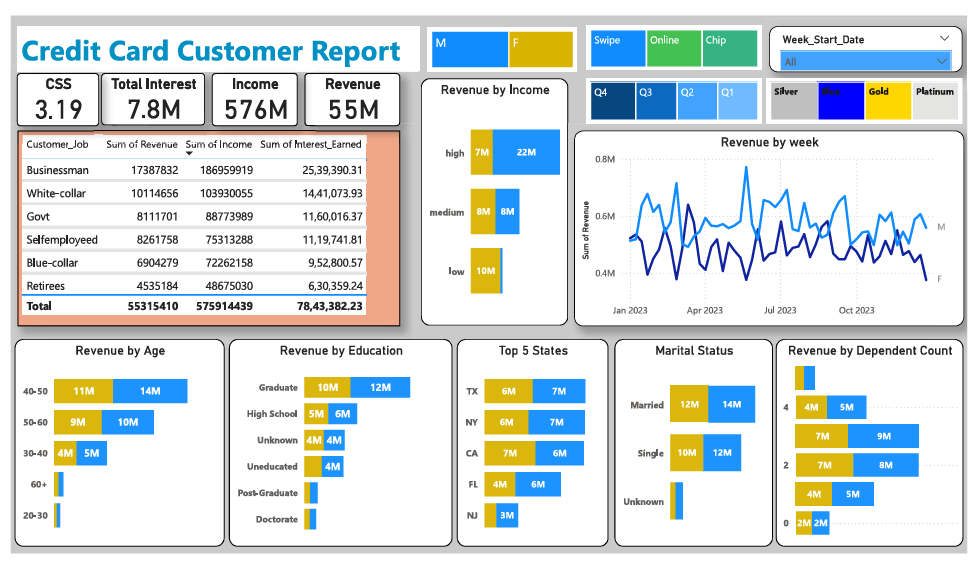

What the dashboard file says about the page in this screenshot:
{"tool":"powerbi","page":{"name":"Customer Trans","canvas":[1280,720],"ordinal":1},"visuals":[{"type":"textbox","box":[8.6,14.7,538,59.9],"z":0},{"type":"barChart","title":"Revenue by Income","fields":{"Y":["Sum(credit_card.Revenue)"],"Category":["customer.IncomeGroup"],"Series":["customer.Gender"]},"box":[548.9,84.5,196.6,330.6],"z":1000},{"type":"tableEx","fields":{"Values":["customer.Customer_Job","Sum(credit_card.Revenue)","Sum(customer.Income)","Sum(credit_card.Interest_Earned)"]},"box":[8.6,154.1,512.4,261.7],"z":2000},{"type":"card","title":"Revenue","fields":{"Values":["Sum(credit_card.Revenue)"]},"box":[392.5,77,128.4,70.9],"z":3000},{"type":"card","title":"Total Interest","fields":{"Values":["Sum(credit_card.Interest_Earned)"]},"box":[121.1,77,139.4,69.7],"z":4000},{"type":"card","title":"Income","fields":{"Values":["Sum(customer.Income)"]},"box":[269,77,114.9,70.9],"z":5000},{"type":"card","title":"CSS","fields":{"Values":["Avg(customer.Cust_Satisfaction_Score)"]},"box":[8,77,110.1,70.9],"z":6000},{"type":"slicer","fields":{"Values":["credit_card.Week_Start_Date"]},"box":[1014.6,14.5,259.4,61.5],"z":7000},{"type":"treemap","fields":{"Group":["credit_card.Qtr"],"Values":["Avg(credit_card.Client_Num)"]},"box":[770.9,84.5,234,60.3],"z":8000},{"type":"treemap","fields":{"Group":["credit_card.Card_Category"],"Values":["Avg(credit_card.Client_Num)"]},"box":[1012.2,84.5,262,60.3],"z":9000},{"type":"lineChart","title":"Revenue by week","fields":{"Y":["Sum(credit_card.Revenue)"],"Series":["customer.Gender"],"Category":["credit_card.Week_Start_Date.Variation.Date Hierarchy.Year","credit_card.Week_Start_Date.Variation.Date Hierarchy.Month","credit_card.Week_Start_Date.Variation.Date Hierarchy.Day"]},"box":[754,154.4,522.4,261.8],"z":10000},{"type":"treemap","fields":{"Group":["customer.Gender"],"Values":["Sum(credit_card.Revenue)"]},"box":[557.6,15.9,200.5,58.7],"z":11000},{"type":"barChart","title":"Revenue by Age","fields":{"Y":["Sum(credit_card.Revenue)"],"Category":["customer.AgeGroup"],"Series":["customer.Gender"]},"box":[5,433.1,281.1,277.5],"z":12000},{"type":"barChart","title":"Revenue by Dependent Count","fields":{"Y":["Sum(credit_card.Revenue)"],"Category":["customer.Dependent_Count"],"Series":["customer.Gender"]},"box":[1024,433.1,250.9,277.5],"z":13000},{"type":"barChart","title":"Revenue by Education","fields":{"Y":["Sum(credit_card.Revenue)"],"Category":["customer.Education_Level"],"Series":["customer.Gender"]},"box":[292,433.1,299.2,277.5],"z":14000},{"type":"barChart","title":"Top 5 States","fields":{"Y":["Sum(credit_card.Revenue)"],"Category":["customer.state_cd"],"Series":["customer.Gender"]},"box":[597,433.1,202.7,277.5],"z":15000},{"type":"barChart","title":"Marital Status","fields":{"Y":["Sum(credit_card.Revenue)"],"Category":["customer.Marital_Status"],"Series":["customer.Gender"]},"box":[808,433.1,212.3,277.5],"z":16000},{"type":"treemap","fields":{"Group":["credit_card.Use Chip"],"Values":["Avg(credit_card.Client_Num)"]},"box":[770.9,14.5,234,59.1],"z":17000}]}

Visuals, with their boxes in screenshot pixels (x1, y1, x2, y2):
textbox: box(14, 24, 417, 69)
"Revenue by Income" barChart: box(419, 76, 566, 324)
tableEx - customer.Customer_Job x Sum(credit_card.Revenue): box(14, 128, 398, 324)
"Revenue" card: box(302, 70, 398, 123)
"Total Interest" card: box(98, 70, 203, 123)
"Income" card: box(209, 70, 295, 123)
"CSS" card: box(14, 70, 96, 123)
slicer - credit_card.Week_Start_Date: box(767, 24, 962, 70)
treemap - credit_card.Qtr x Avg(credit_card.Client_Num): box(585, 76, 760, 121)
treemap - credit_card.Card_Category x Avg(credit_card.Client_Num): box(766, 76, 962, 121)
"Revenue by week" lineChart: box(572, 128, 963, 324)
treemap - customer.Gender x Sum(credit_card.Revenue): box(425, 25, 575, 69)
"Revenue by Age" barChart: box(11, 337, 222, 545)
"Revenue by Dependent Count" barChart: box(774, 337, 962, 545)
"Revenue by Education" barChart: box(226, 337, 450, 545)
"Top 5 States" barChart: box(455, 337, 606, 545)
"Marital Status" barChart: box(613, 337, 772, 545)
treemap - credit_card.Use Chip x Avg(credit_card.Client_Num): box(585, 24, 760, 68)
